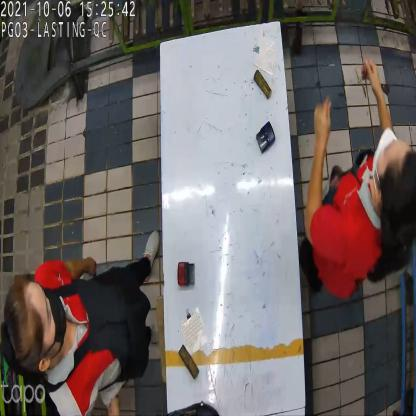stamp: (255, 121, 275, 156), (177, 258, 195, 289)
